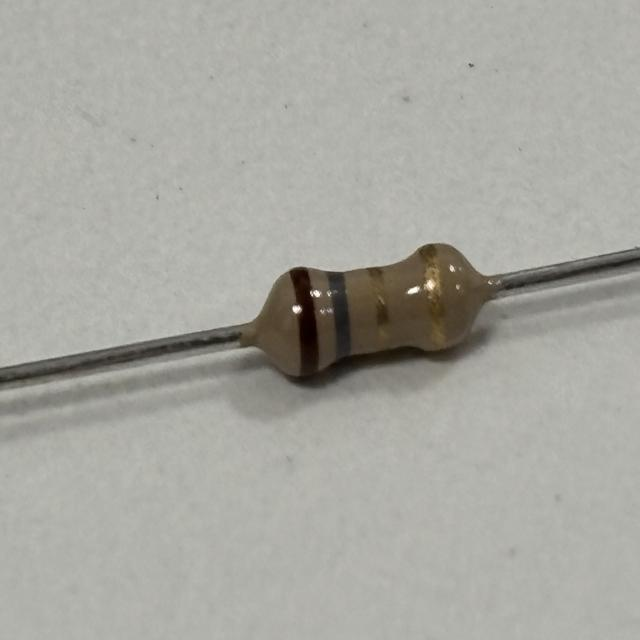resistor: (270, 240, 471, 385)
